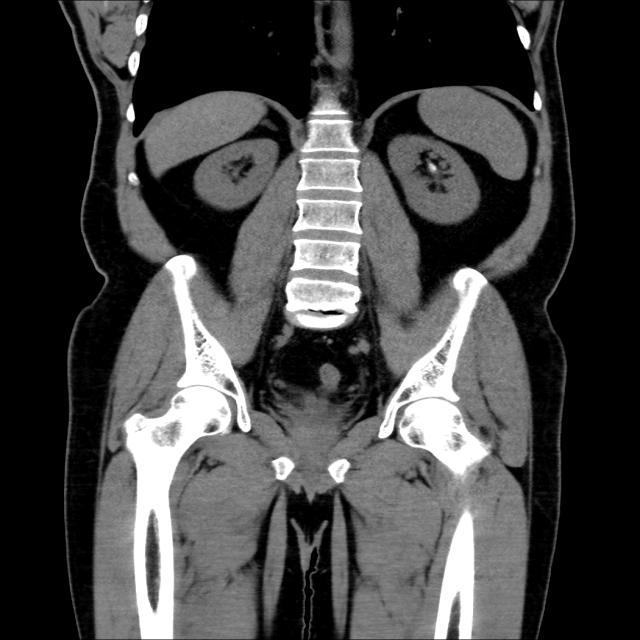kidneystone: (423, 159, 439, 171)
